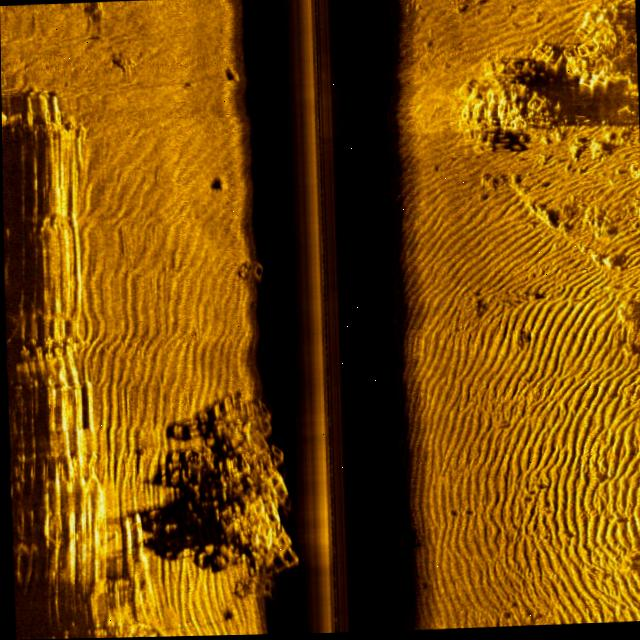artificial reef: (451, 2, 629, 158), (176, 382, 304, 598), (236, 241, 273, 291)
